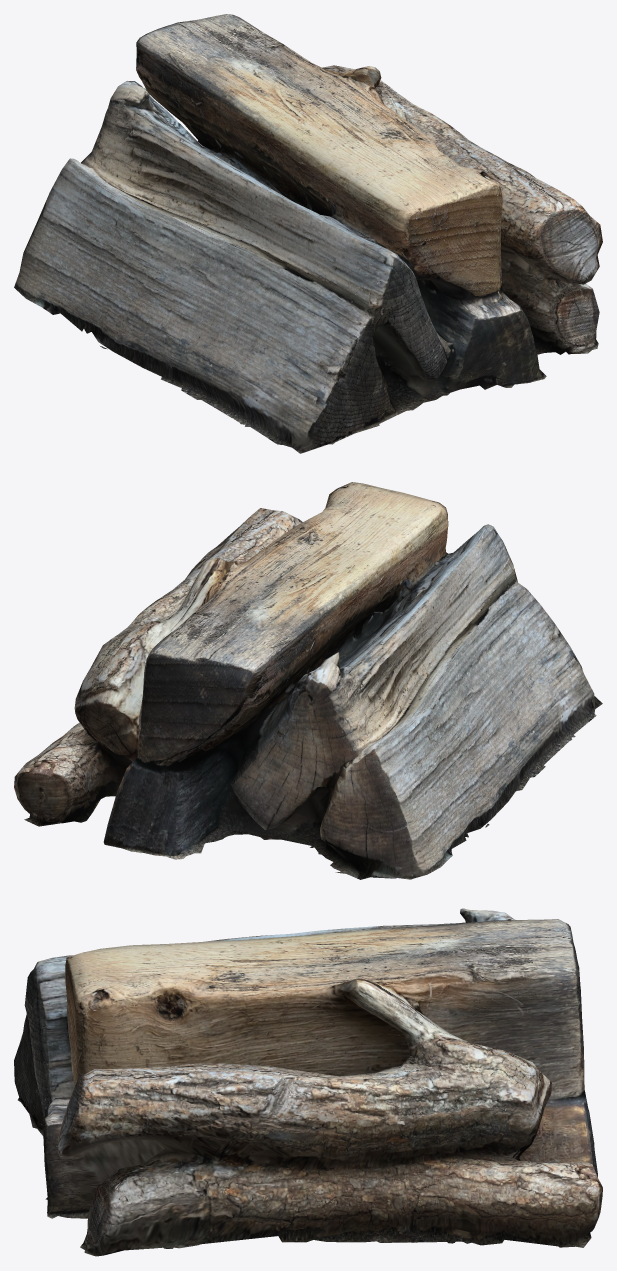
Rendered from firewood-pile.glb.
3 views of the same model, one above another, from view 1: azimuth 30°, elevation 25°; view 2: azimuth 150°, elevation 25°; view 3: azimuth 270°, elevation 25° (orthographic). The views are drawn at different scales.
Parts seen in each view (by area): view 1: Firewood; view 2: Firewood; view 3: Firewood.
Part boxes in pixels (x1,y1,x2,y2): Firewood: (14,14,602,453); Firewood: (14,482,602,879); Firewood: (14,908,602,1256).
Size of the model in its own units: 0.7844 by 0.3996 by 0.9509.
Materials: 1 (1 with a texture image).
